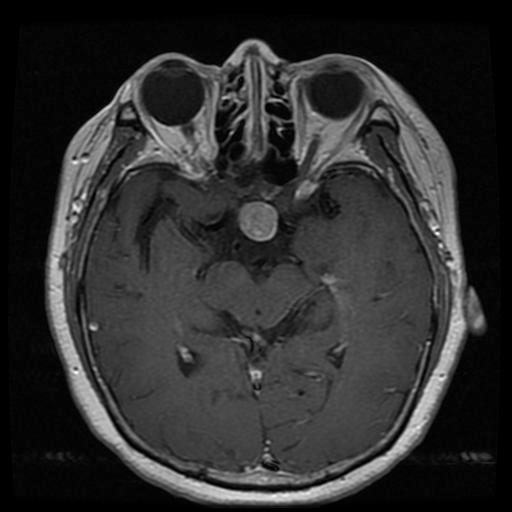Tumour-Pituitary: (238, 204, 282, 246)
